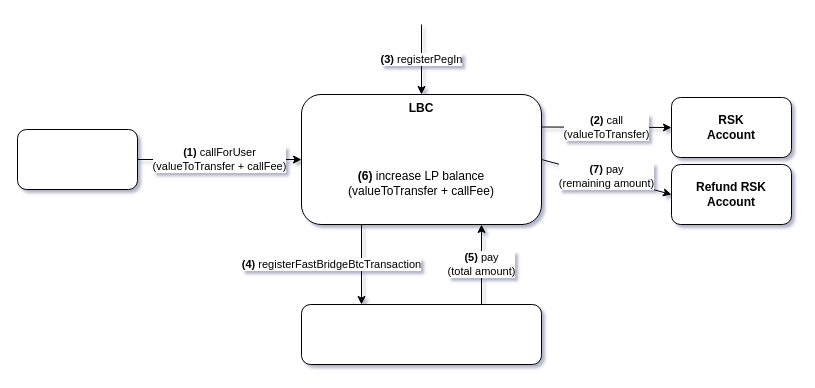
The diagram is 815 pixels wide and 388 high, and some of its shapes have lost their labels. Each missing label, with the centre of its shape:
Bridge: pixel 421 334
LP: pixel 77 159
